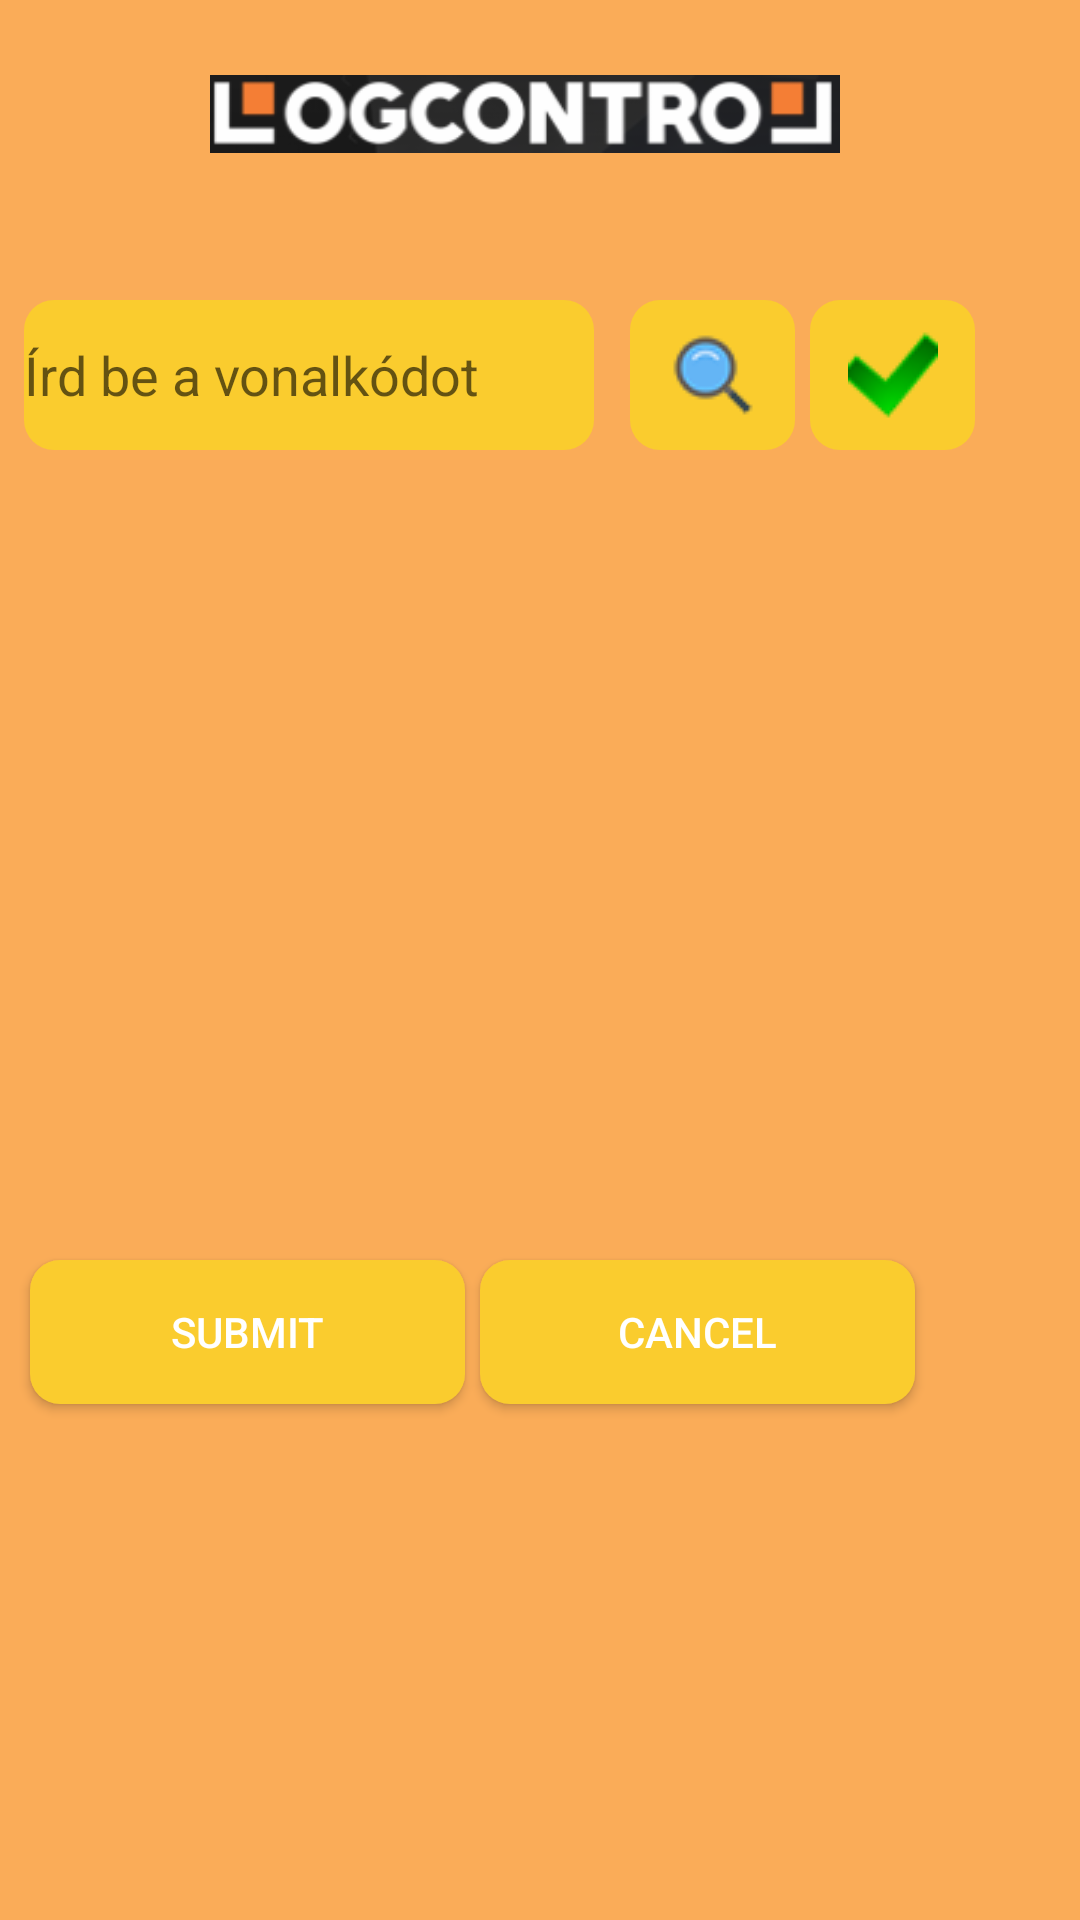

Screen size 1080px×1920px. Icon name, then its box in pixels as (x1, y1, x2, y2):
pipegood: (810, 300, 975, 450)
searchicon: (630, 300, 795, 450)
